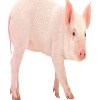heo: (59, 1, 95, 66)
